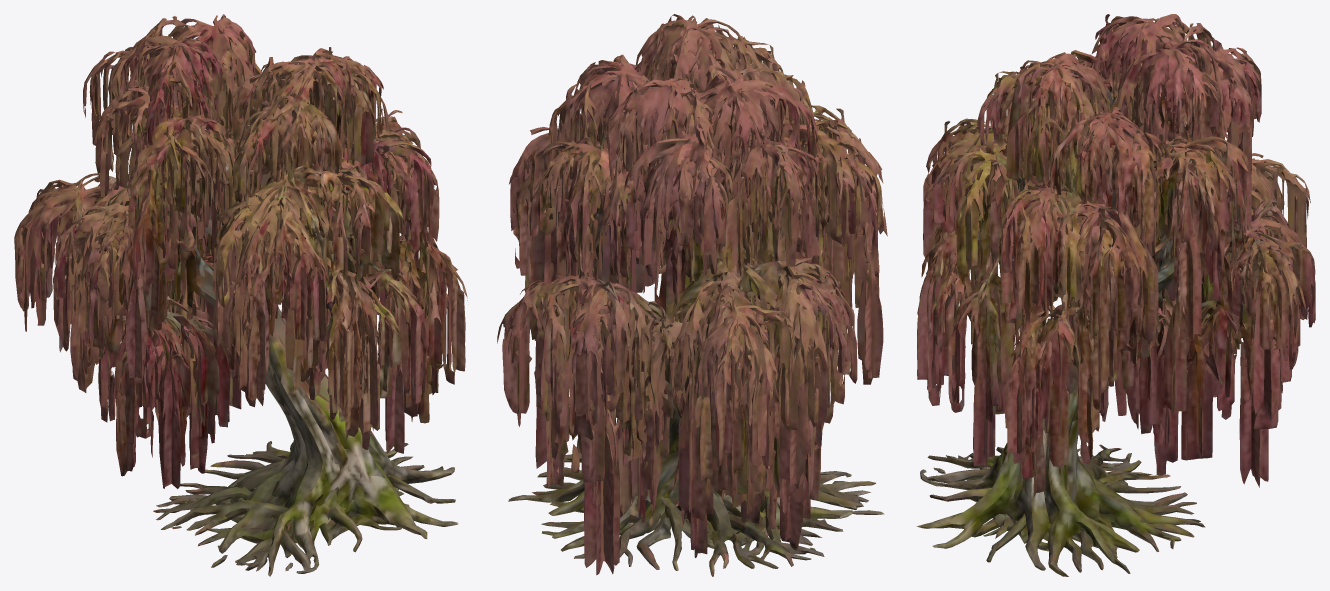
File: WillowBurgundy.fbx
3 renders of one model, left to right at view 1: azimuth 30°, elevation 25°; view 2: azimuth 150°, elevation 25°; view 3: azimuth 270°, elevation 25°, orthographic. The views are drawn at different scales.
Parts seen in each view (by area): view 1: geometry_0; view 2: geometry_0; view 3: geometry_0.
Part boxes in pixels (x1,y1,x2,y2): geometry_0: (14, 14, 467, 576); geometry_0: (497, 14, 887, 576); geometry_0: (916, 14, 1315, 576).
Size of the model in its own units: 462 by 600 by 473.
